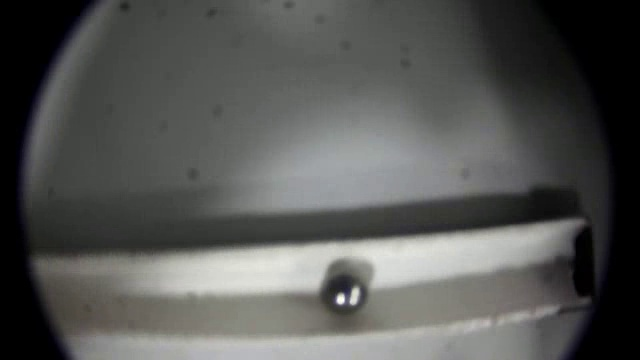gangzhu: (322, 274, 369, 315)
